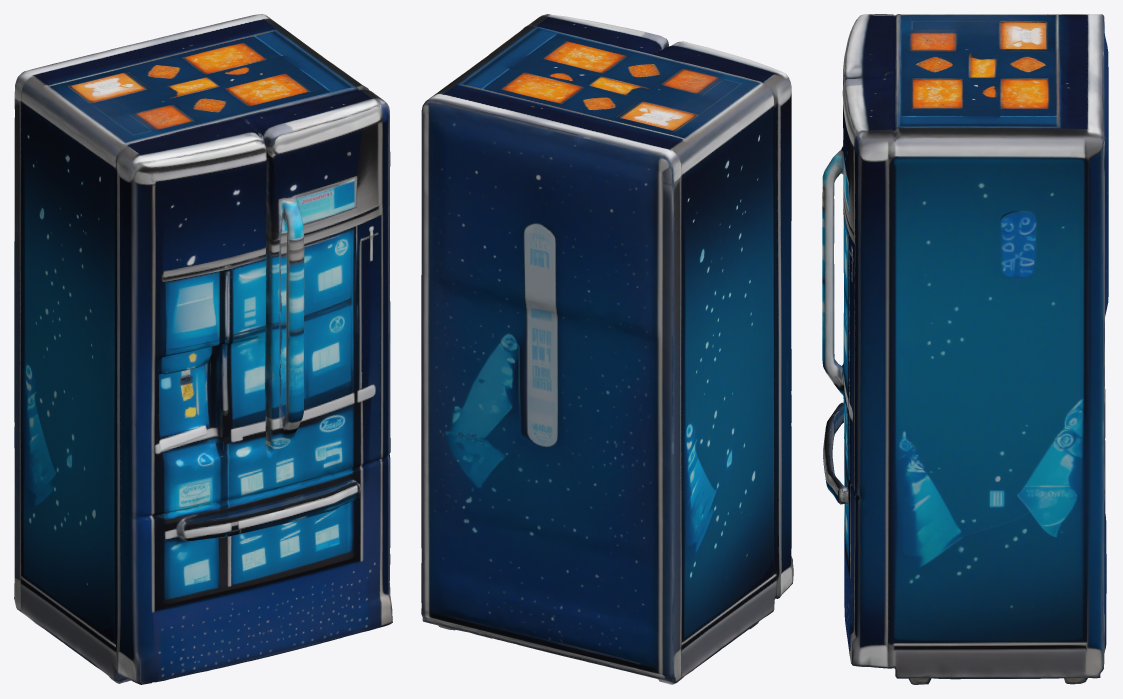
File: fridge-v3.glb
3 renders of one model, left to right at view 1: azimuth 30°, elevation 25°; view 2: azimuth 150°, elevation 25°; view 3: azimuth 270°, elevation 25°, orthographic. The views are drawn at different scales.
Size of the model in its own units: 1.01 by 2.01 by 0.942.
Materials: 1 (1 with a texture image).
